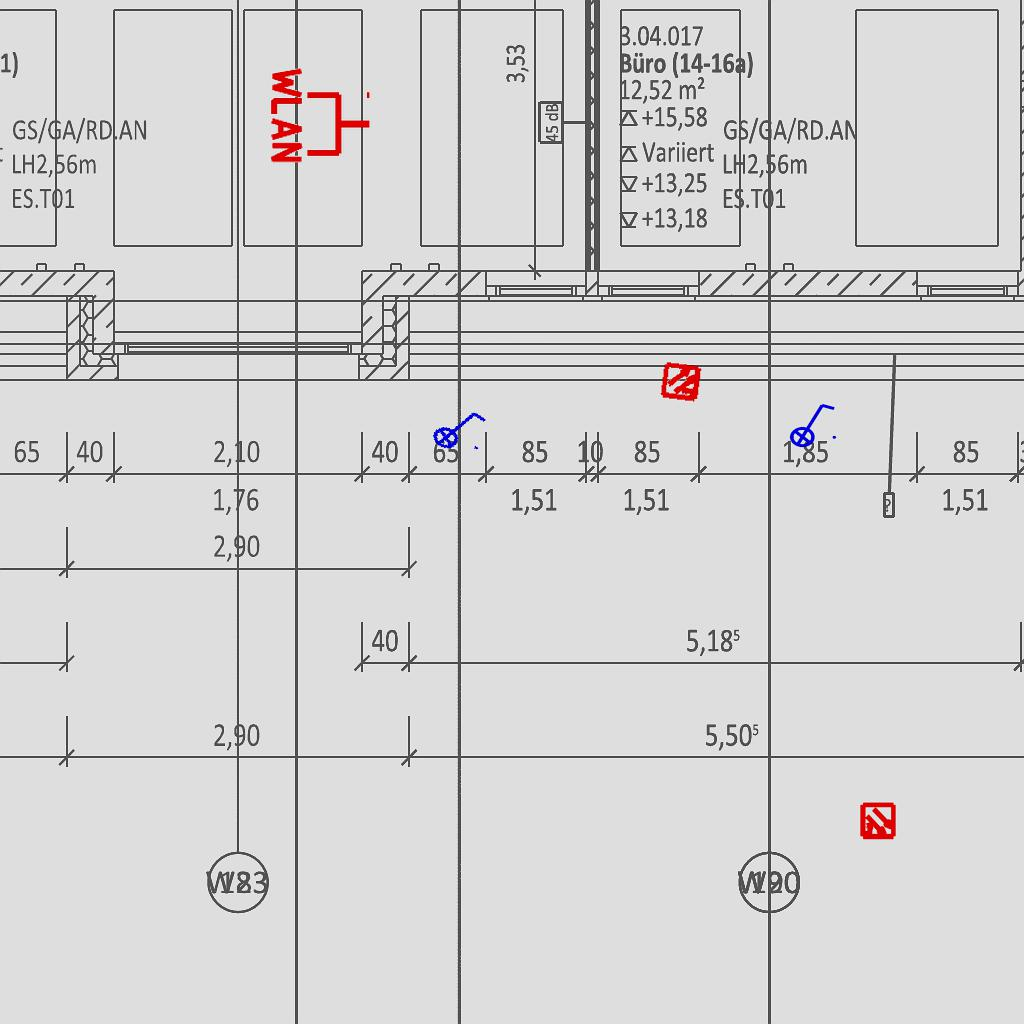Ausschalter_beleuchtet: (423, 396, 493, 460), (783, 400, 839, 448)
OT_Multisensormelder_(Kombination_RMO_WMD): (650, 350, 714, 414), (850, 794, 906, 850)
WLAN: (269, 63, 374, 167)
